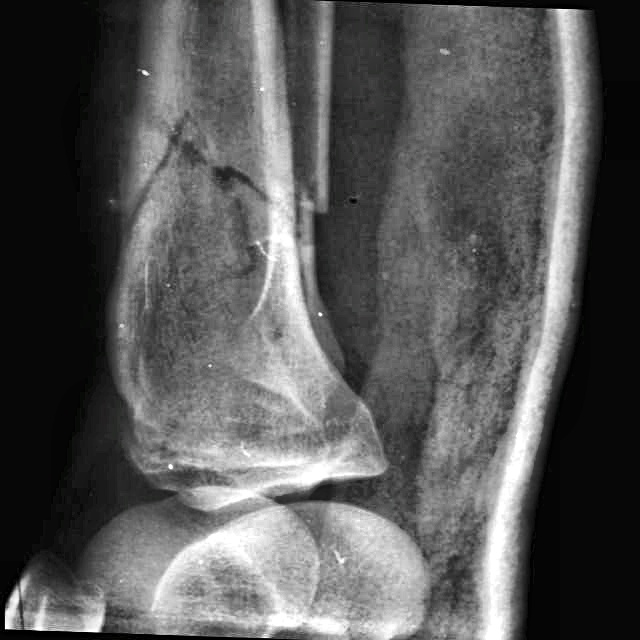Oblique Displaced: (117, 104, 336, 231)
